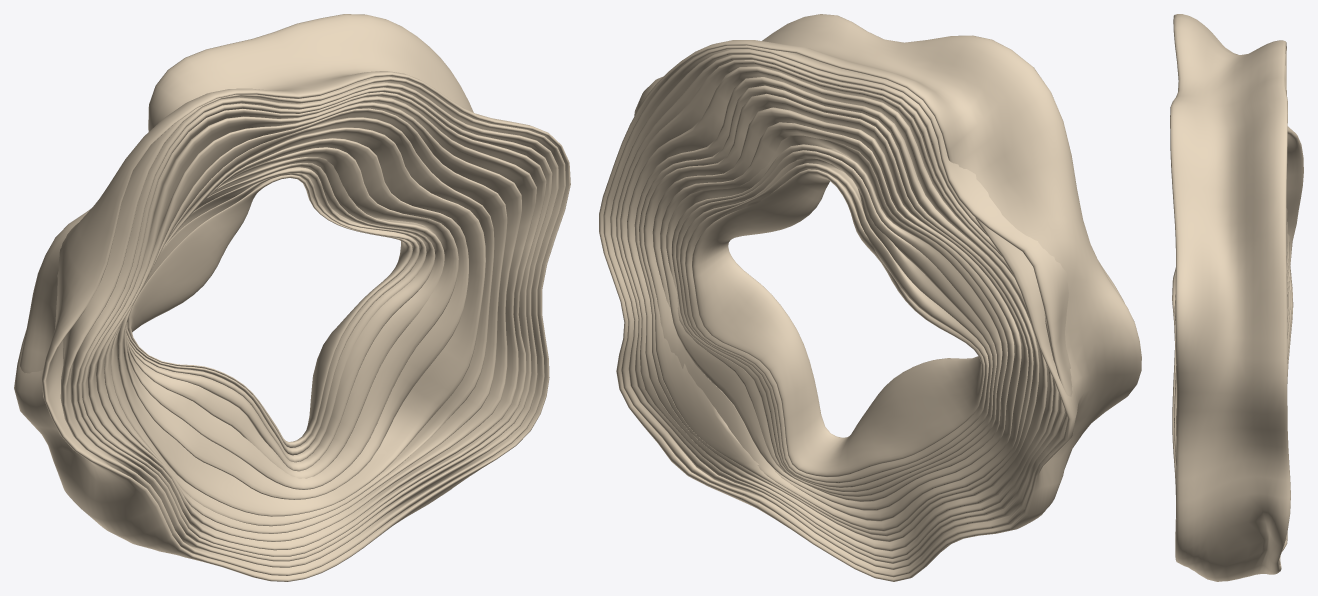
3 renders of one model, left to right at view 1: azimuth 30°, elevation 25°; view 2: azimuth 150°, elevation 25°; view 3: azimuth 270°, elevation 25°, orthographic. The views are drawn at different scales.
Parts seen in each view (by area): view 1: srink_model; view 2: srink_model; view 3: srink_model.
Boxes of the visible parts, x1,y1,x2,y2 form: srink_model: (14, 14, 570, 581); srink_model: (599, 14, 1141, 581); srink_model: (1170, 14, 1303, 581).
Bounding box in the file's own units: 89665 × 85167 × 21135.
